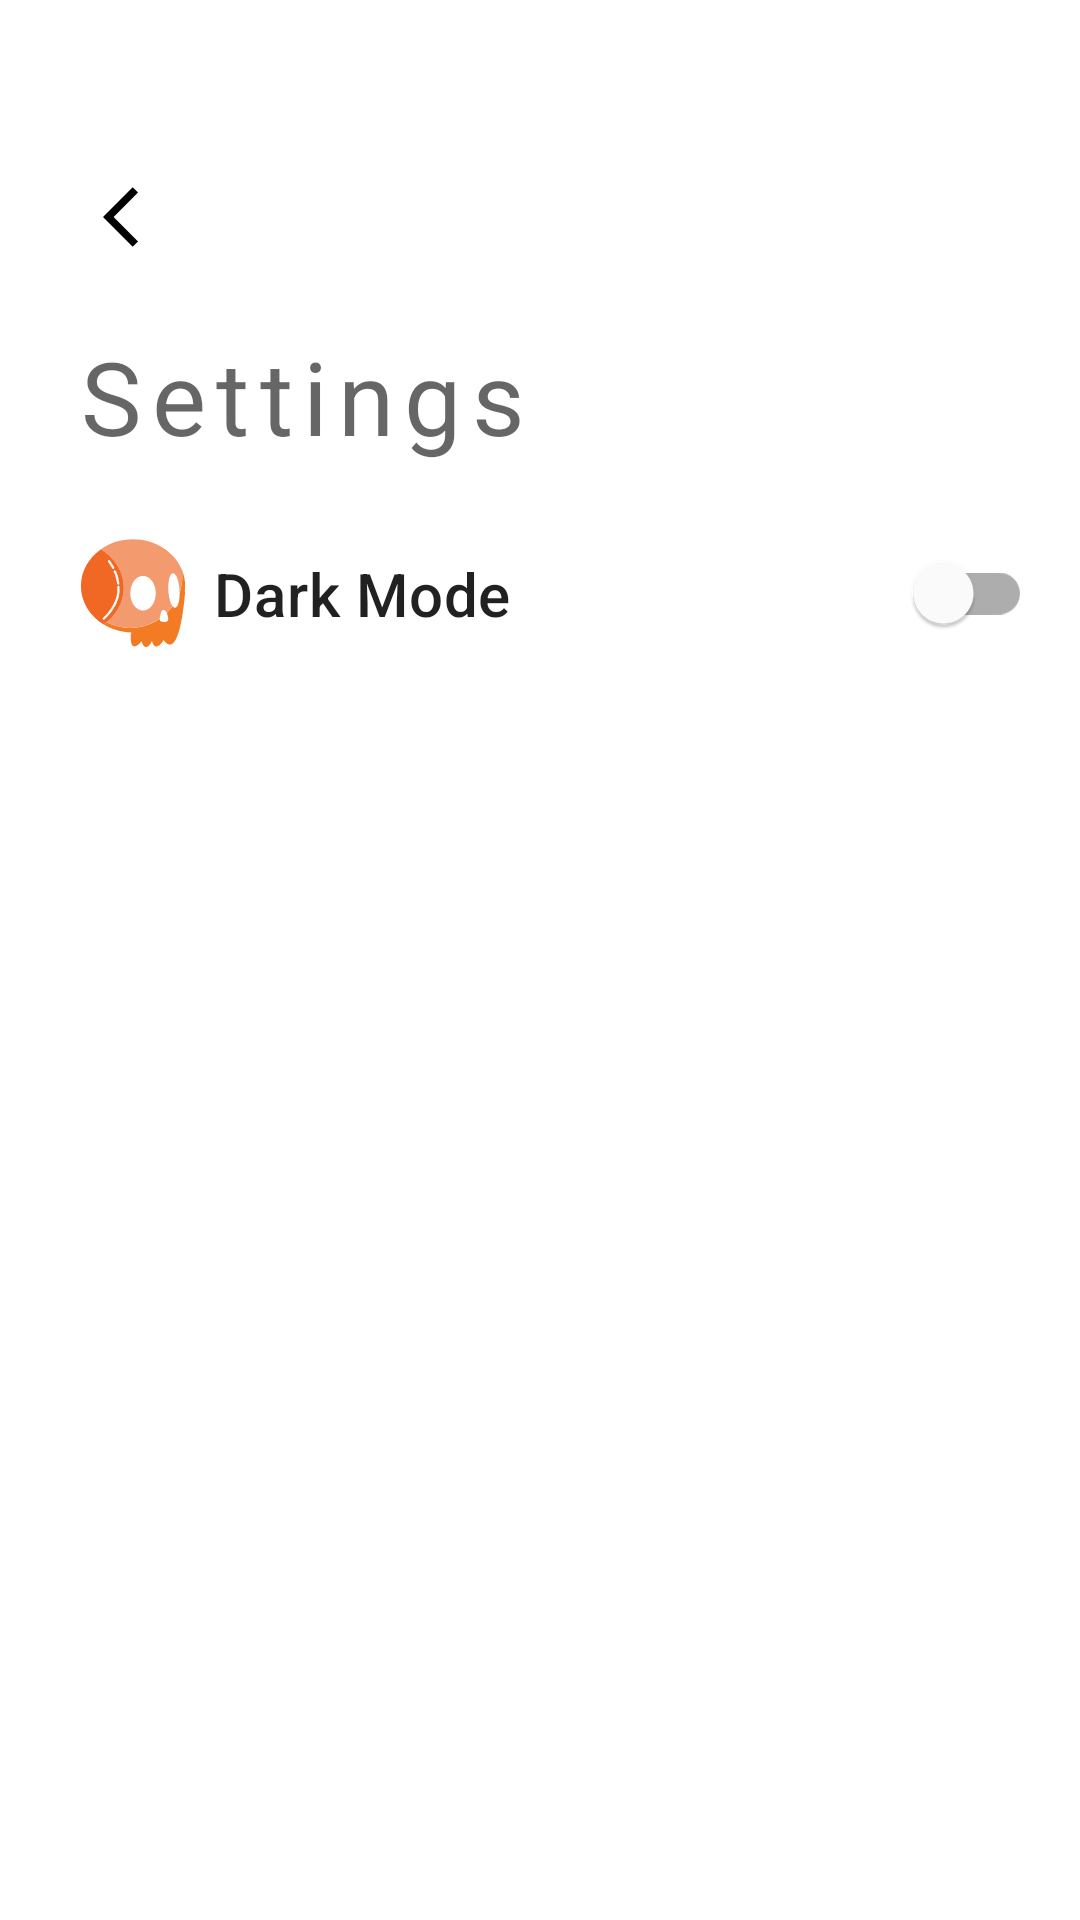

Where to tap for icons on this 1080*1920 app screen, as (x=x, y=y):
arrow back: (x=120, y=217)
